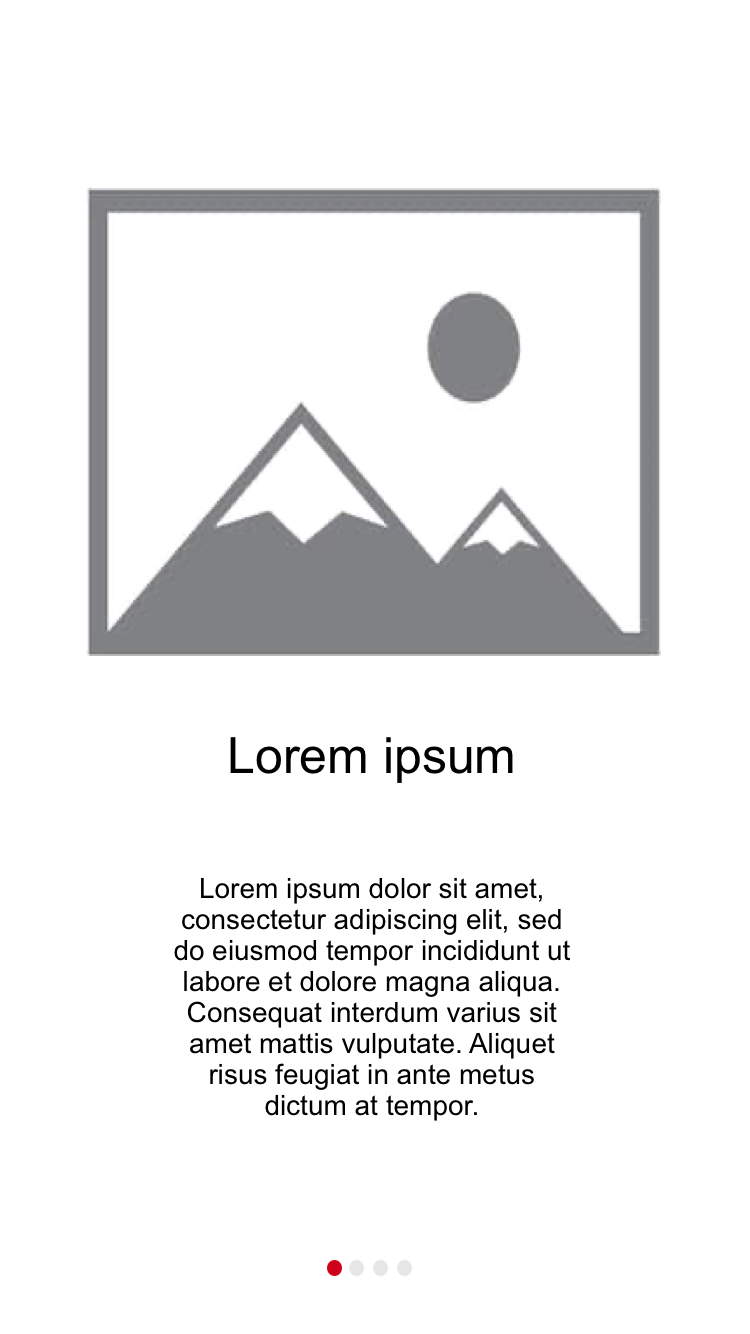Image: (87, 188, 661, 658)
PageIndicator: (326, 1259, 414, 1278)
Text: (173, 877, 571, 1122), (229, 735, 514, 784)
